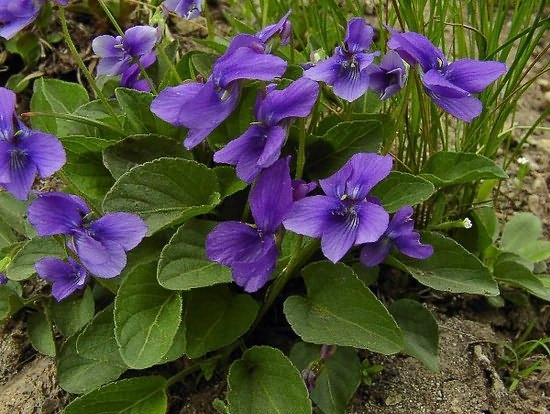violet: (384, 26, 502, 127), (151, 34, 263, 139), (289, 152, 402, 254), (217, 163, 303, 291), (29, 190, 152, 275), (227, 83, 316, 174), (297, 30, 388, 106)
